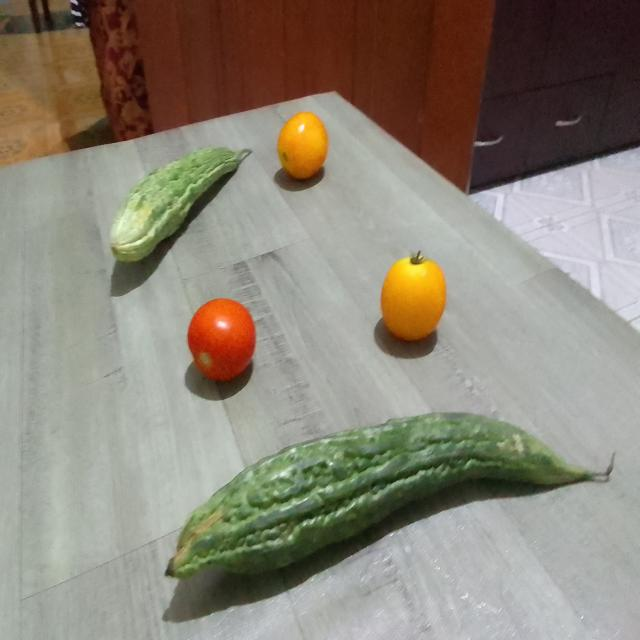ampalaya: (161, 398, 619, 604), (106, 140, 258, 264)
tomato: (377, 241, 454, 349), (185, 290, 259, 386), (276, 106, 333, 186)
